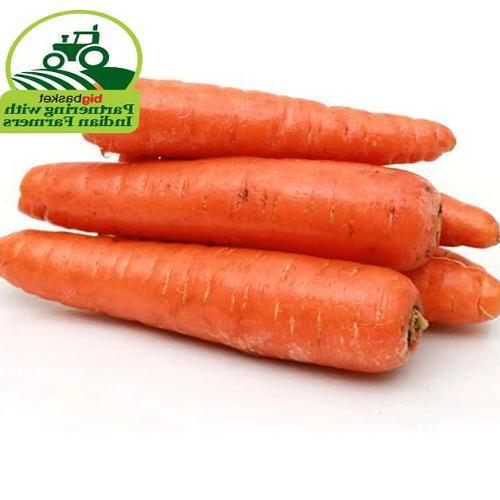carrot: (10, 142, 500, 378), (7, 219, 456, 379), (19, 159, 453, 268)
